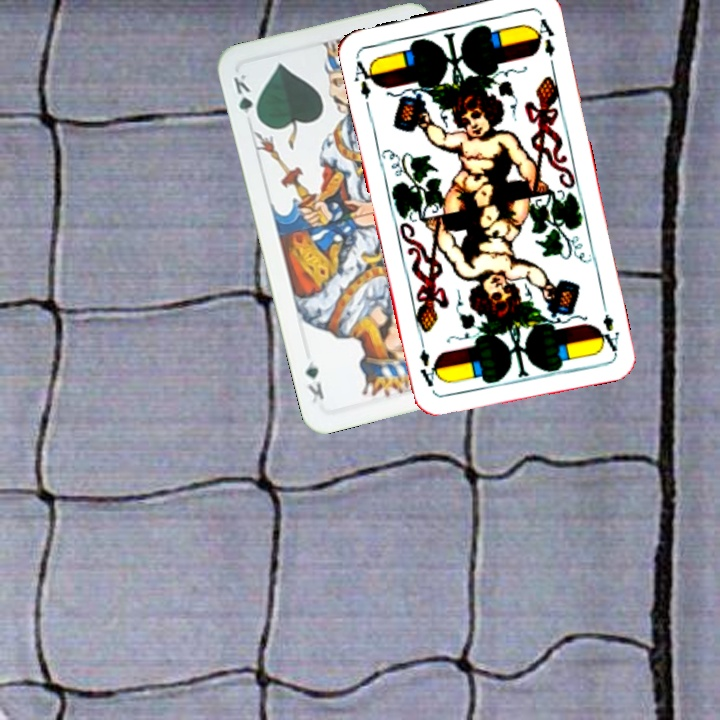EA: (594, 296, 622, 355), (350, 57, 379, 111)
GK: (229, 70, 262, 125)
